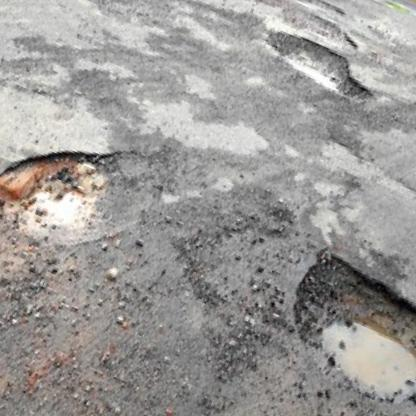pothole: (263, 247, 416, 416), (0, 104, 136, 268), (256, 22, 388, 109), (275, 0, 364, 57), (280, 0, 348, 24)
